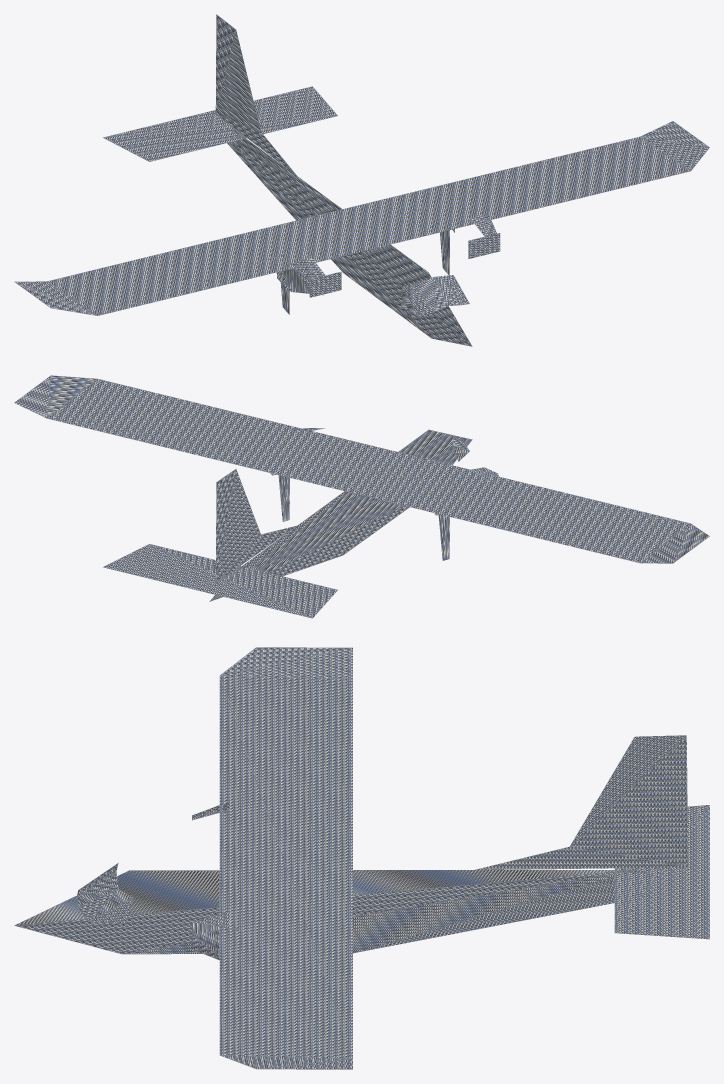
The model's file is HTAI Britten-Norman BN-2 Islander Short Nose MSFS_LOD1.gltf.
3 views of the same model, one above another, from view 1: azimuth 30°, elevation 25°; view 2: azimuth 150°, elevation 25°; view 3: azimuth 270°, elevation 25° (orthographic). The views are drawn at different scales.
Visible parts, largest first — view 1: node1; view 2: node1; view 3: node1.
Part boxes in pixels (bbox=[...]): node1: bbox=[14, 14, 709, 346]; node1: bbox=[14, 375, 709, 618]; node1: bbox=[14, 647, 709, 1069].
Bounding box in the file's own units: 15.43 × 3.79 × 10.75.
